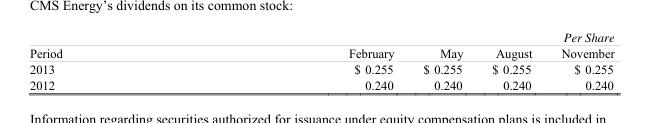table: (28, 29, 613, 92)
table column: (204, 29, 407, 92), (28, 29, 204, 92), (407, 29, 476, 92), (476, 29, 545, 92), (545, 29, 613, 92)
table column header: (28, 29, 613, 60)
table row: (28, 29, 613, 60), (28, 60, 613, 77), (28, 77, 613, 92)
